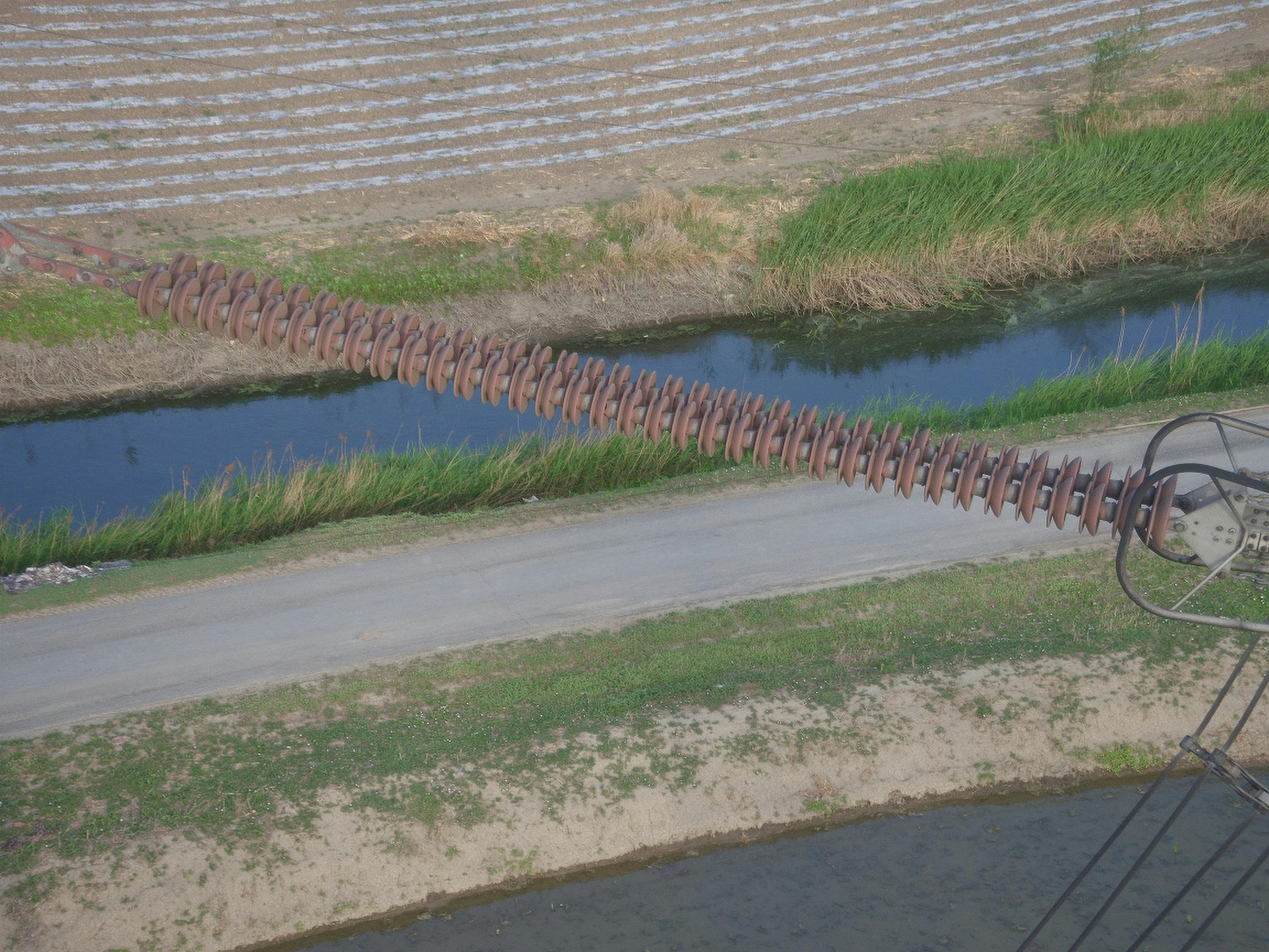insulator: (131, 248, 1183, 556)
